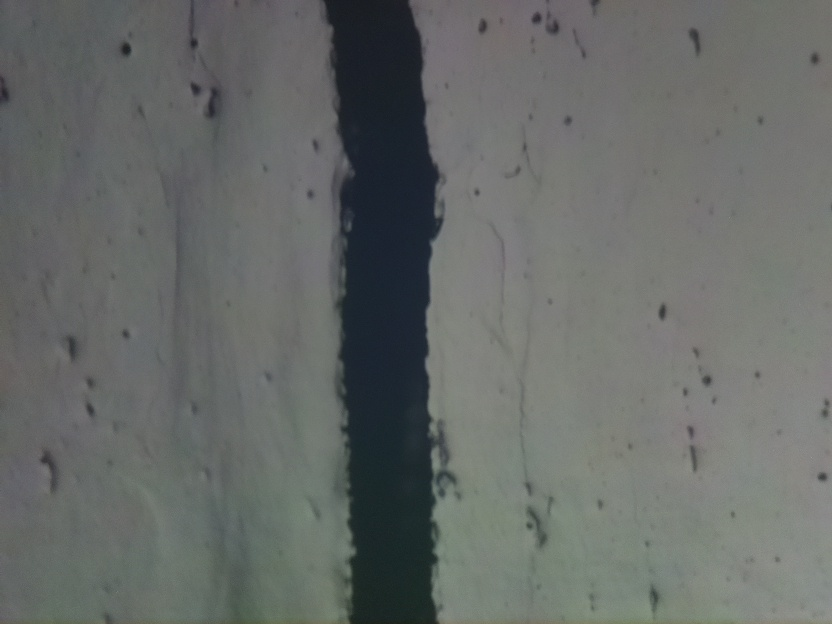crack: (324, 0, 439, 624)
